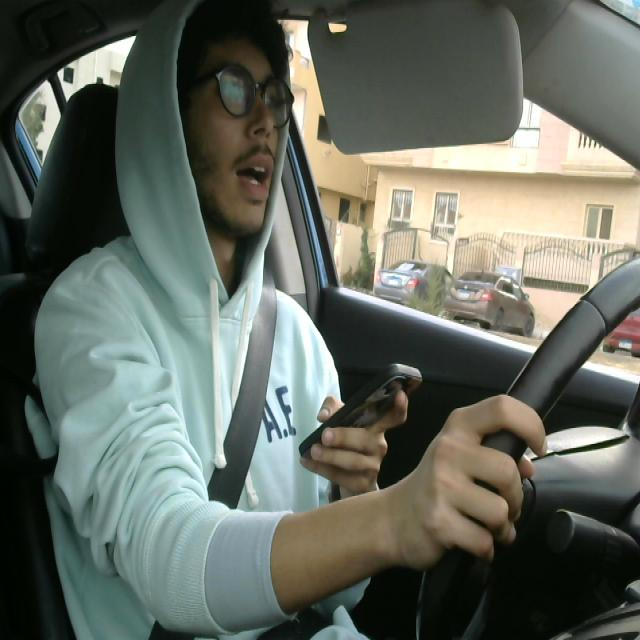mobile use: (302, 351, 420, 473)
